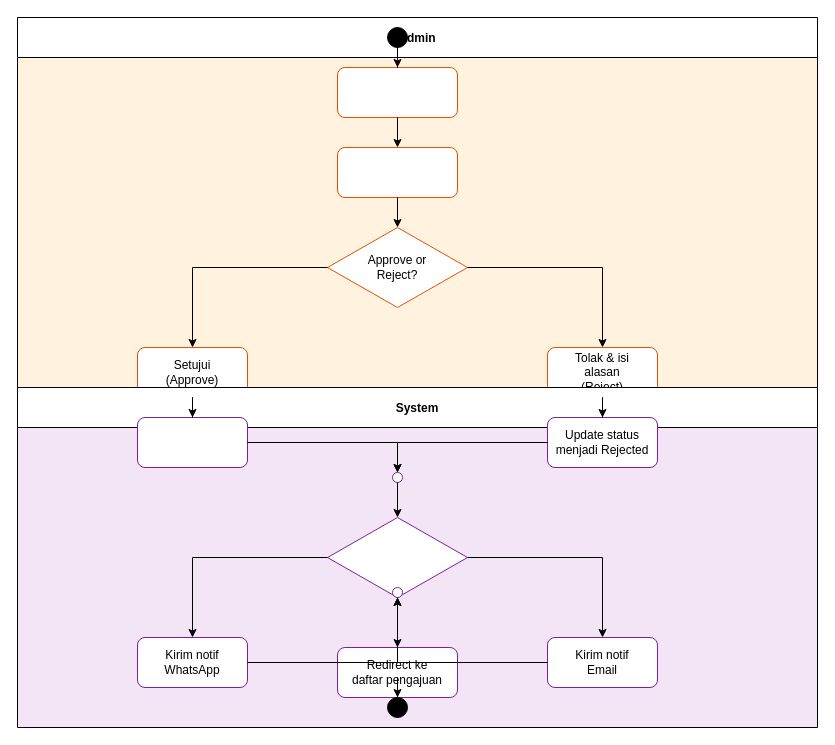
Some shapes in this 835 by 745 pixel diagram are drawn without their labels. The shapes that lost their labels are listed below. From the top down, each one's centre as x and y in pixels, then its label:
pixel 397 92: Admin buka daftar pengajuan
pixel 397 172: Lihat detail pengajuan
pixel 192 442: Update status menjadi Approved
pixel 397 557: Kirim notif ke Visitor?
